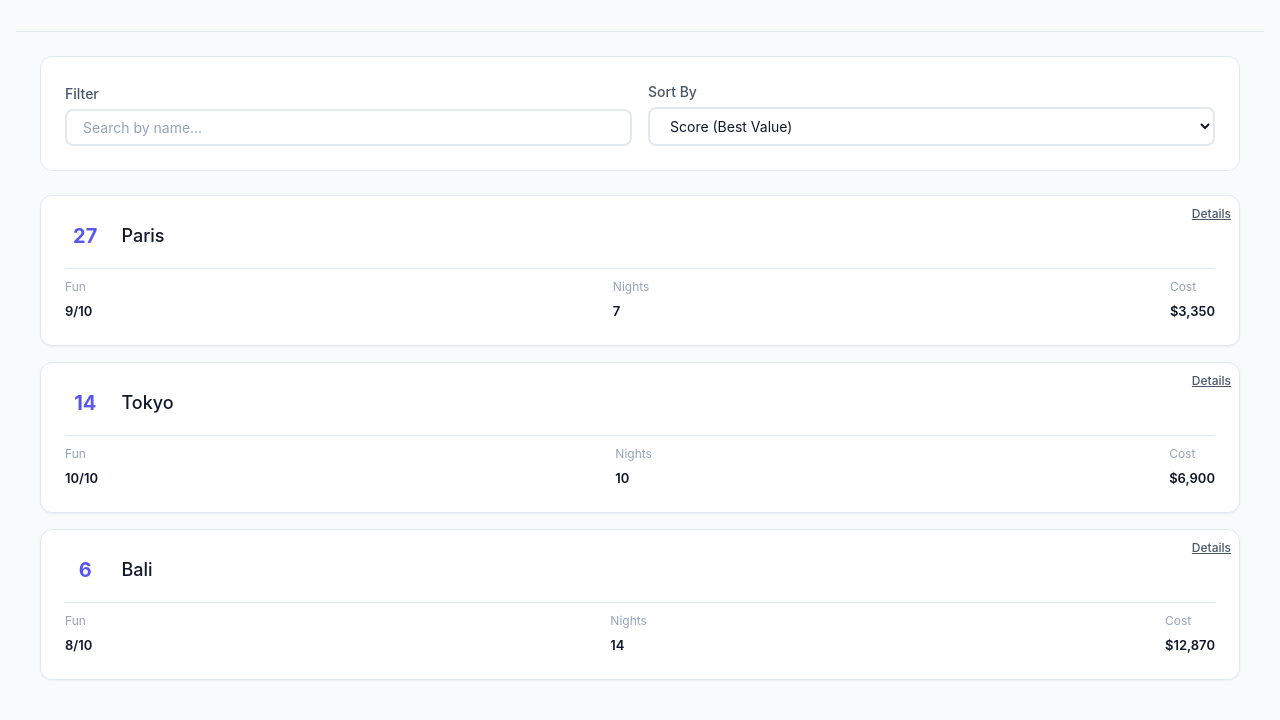
Test: shared trips › handles trip detail with null dates correctly
The image size is (1280, 720).
(page scrolled)
Click the 3rd link "Details": x=1212, y=548 [1192, 538, 1231, 557]
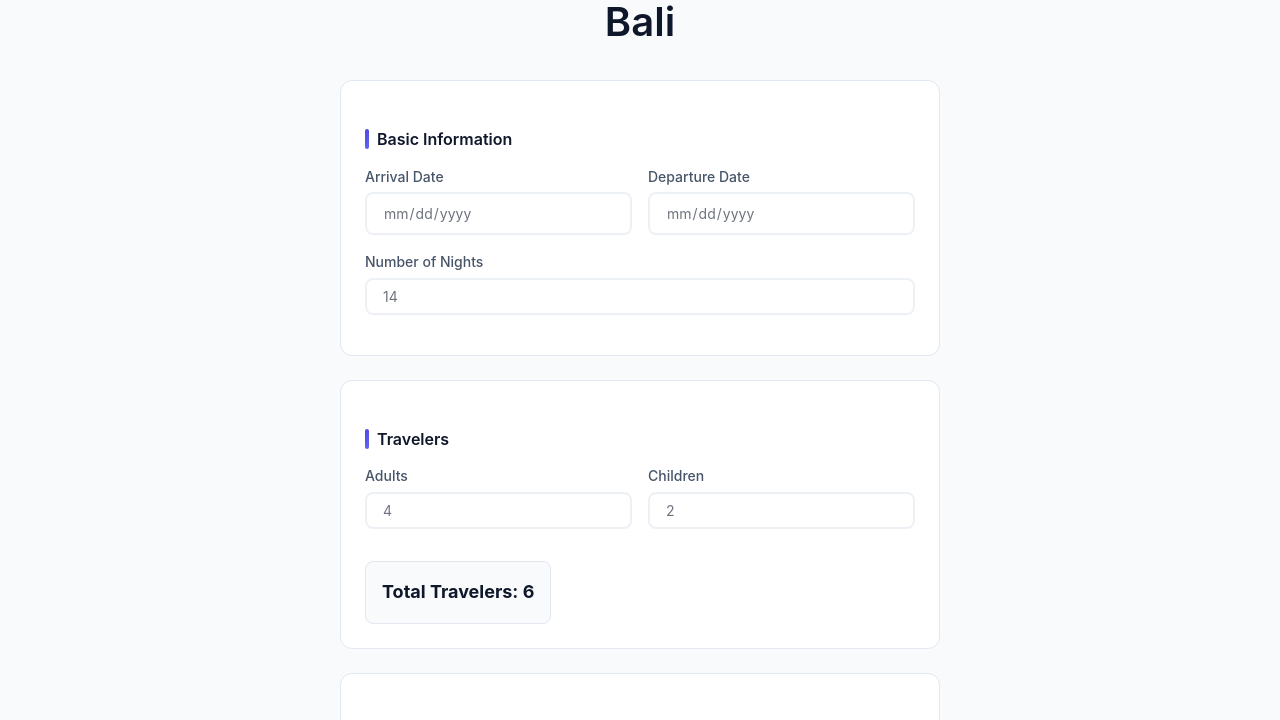
Expected: the number field named "nights" holds "14", [365, 278, 915, 315]
